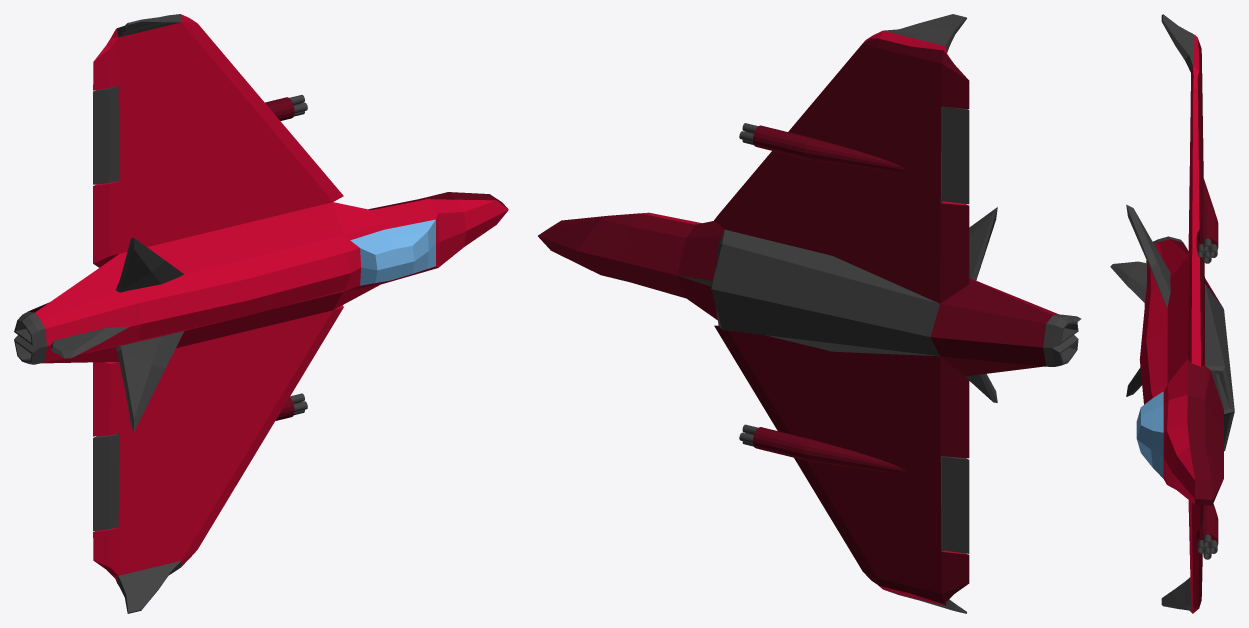
File: aircraft_red.glb
The picture shows the model from 3 angles, left to right: view 1: azimuth 30°, elevation 25°; view 2: azimuth 150°, elevation 25°; view 3: azimuth 270°, elevation 25°; orthographic projection.
Visible parts, largest first — view 1: AirCraft_red; view 2: AirCraft_red; view 3: AirCraft_red.
Part boxes in pixels (left/top/right/bottom): AirCraft_red: left=14, top=14, right=508, bottom=613; AirCraft_red: left=538, top=14, right=1081, bottom=613; AirCraft_red: left=1110, top=14, right=1234, bottom=613.
Size of the model in its own units: 12.75 by 14.32 by 2.76.
